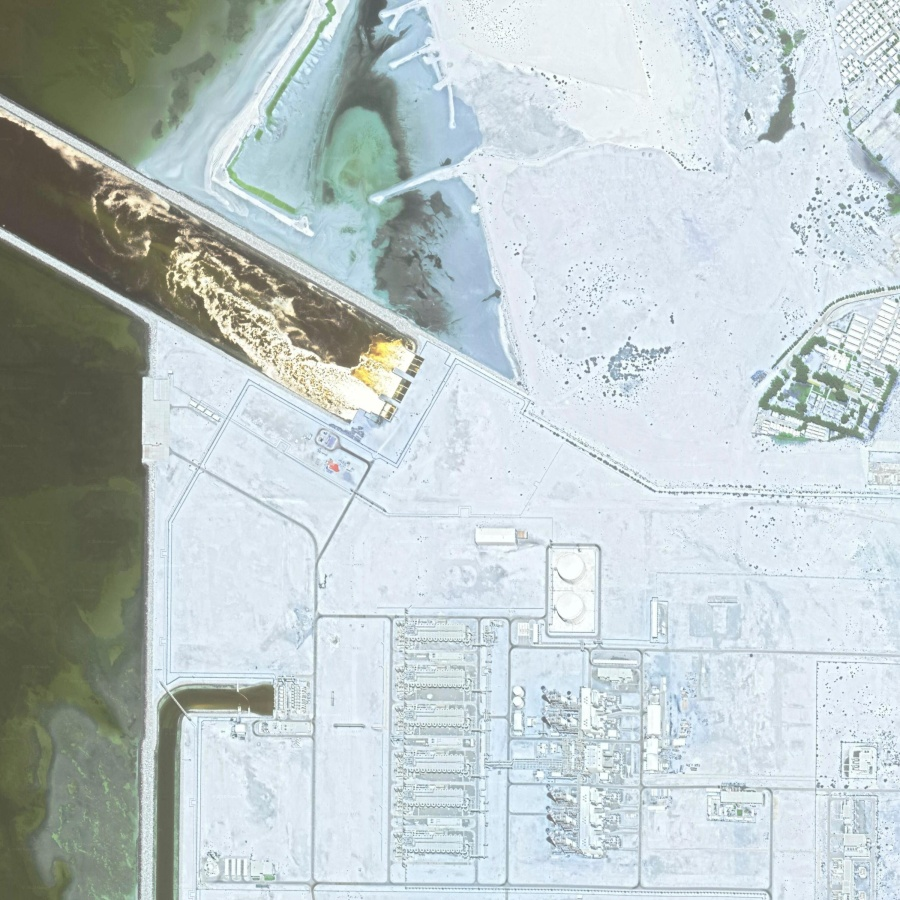PowerPlant: (388, 520, 720, 864)
